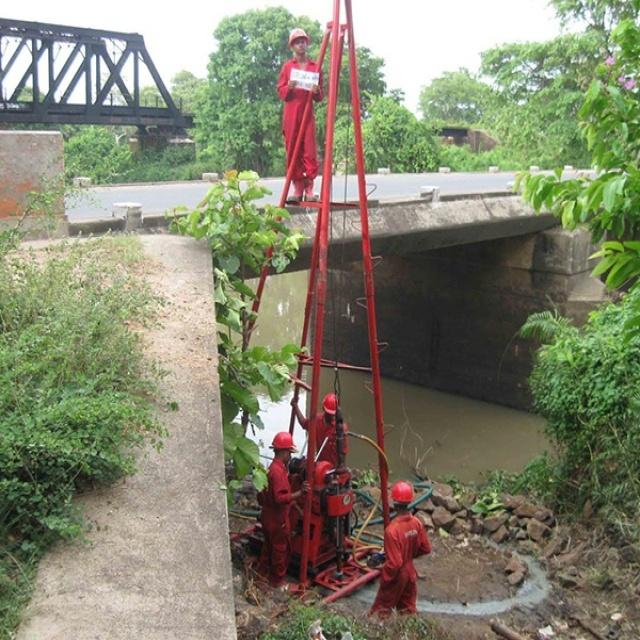helmet: (272, 576, 295, 617), (289, 36, 310, 75), (319, 518, 339, 558), (390, 637, 413, 640)
